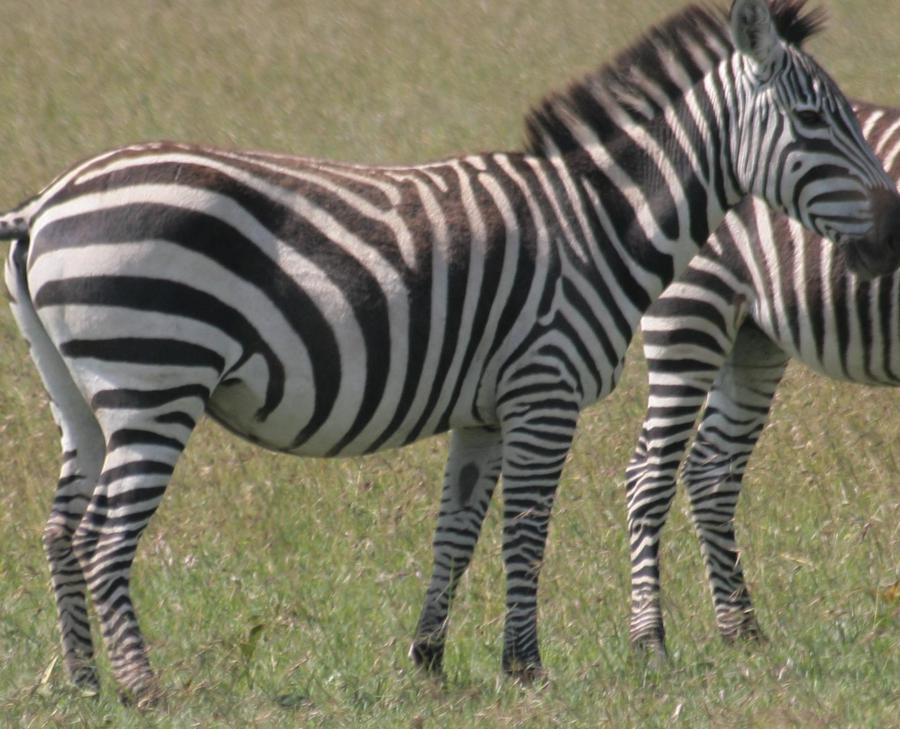zebra_plains: (33, 101, 657, 470)
